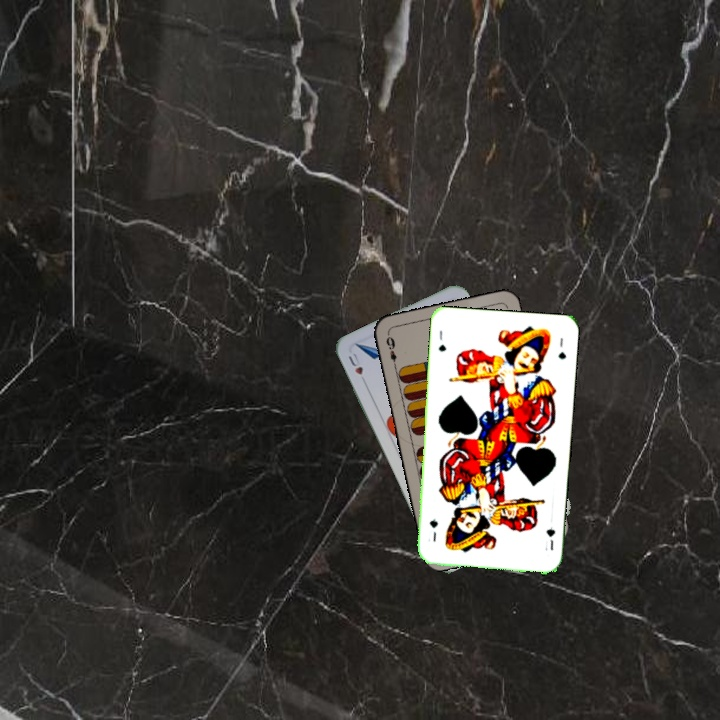E9: (382, 332, 399, 371)
GU: (542, 523, 558, 553), (434, 326, 449, 354)
HU: (344, 348, 369, 387)
